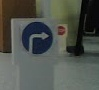right: (18, 19, 56, 55)
